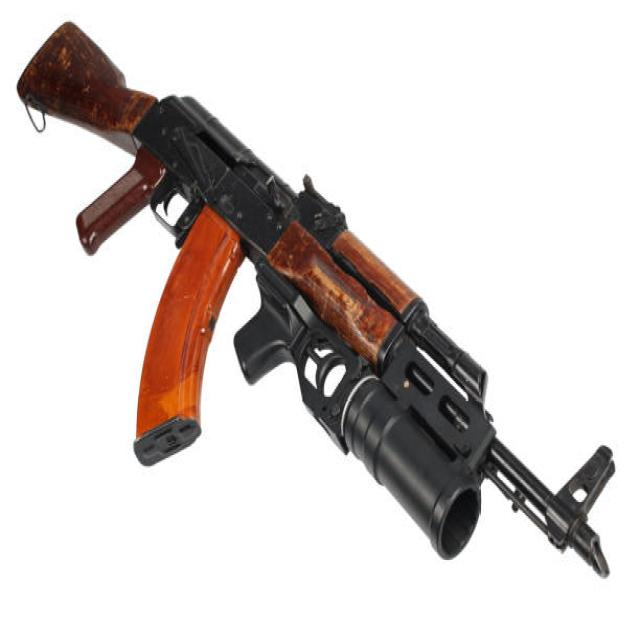rifle: (16, 15, 621, 595)
